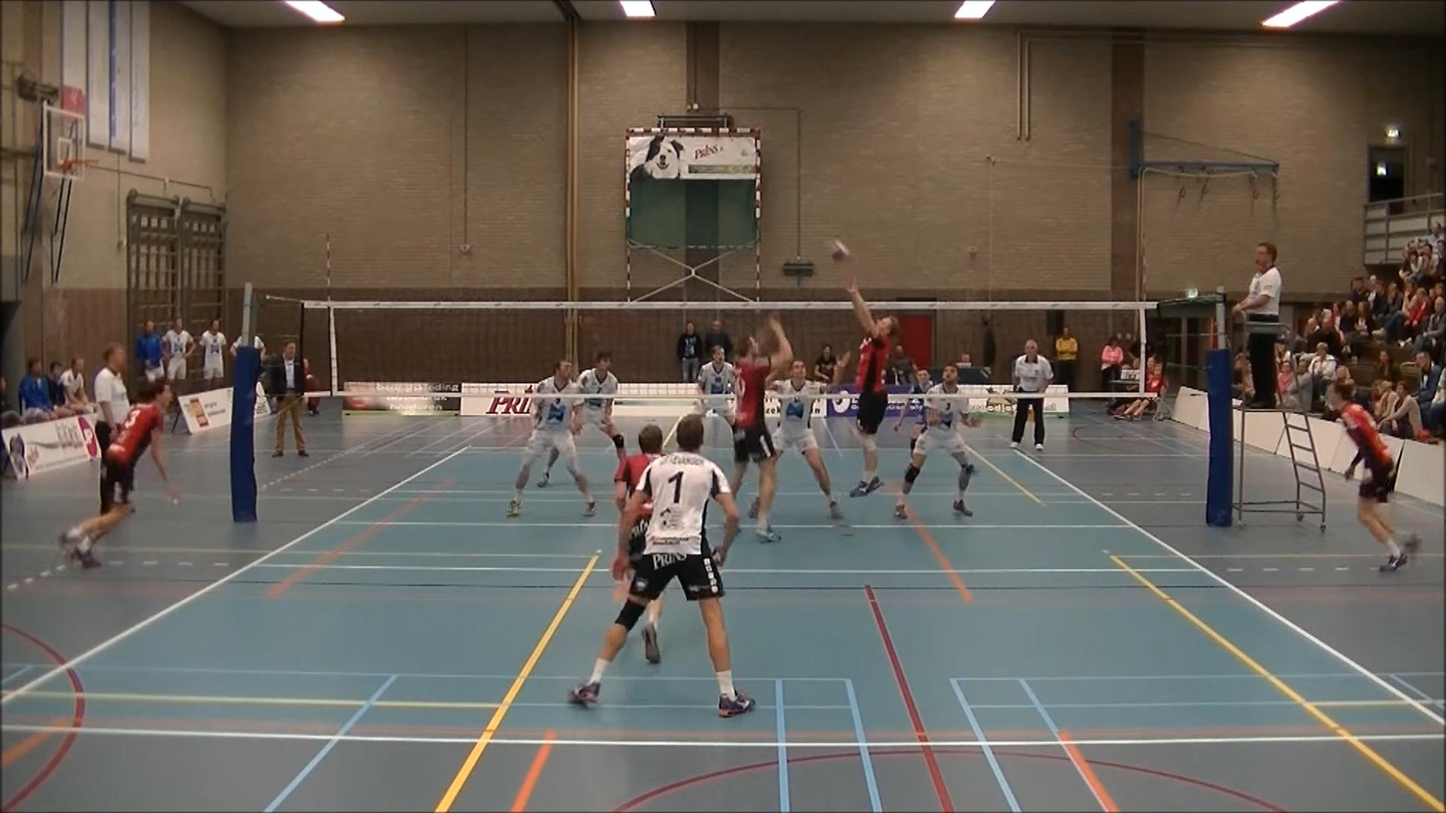Player: (569, 415, 755, 717), (59, 382, 178, 568), (1327, 382, 1420, 571), (730, 315, 792, 542), (507, 360, 595, 517), (895, 364, 981, 518), (774, 359, 842, 520), (577, 352, 626, 461), (615, 424, 664, 513), (693, 347, 736, 426), (893, 369, 932, 453)
Set: (825, 271, 914, 510)
